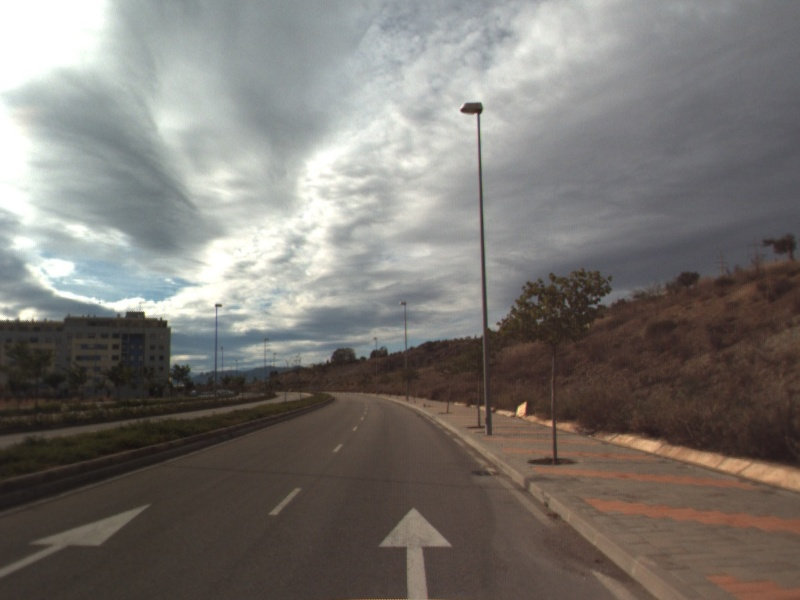STRAIGHT: (1, 500, 154, 579), (376, 504, 455, 600)
